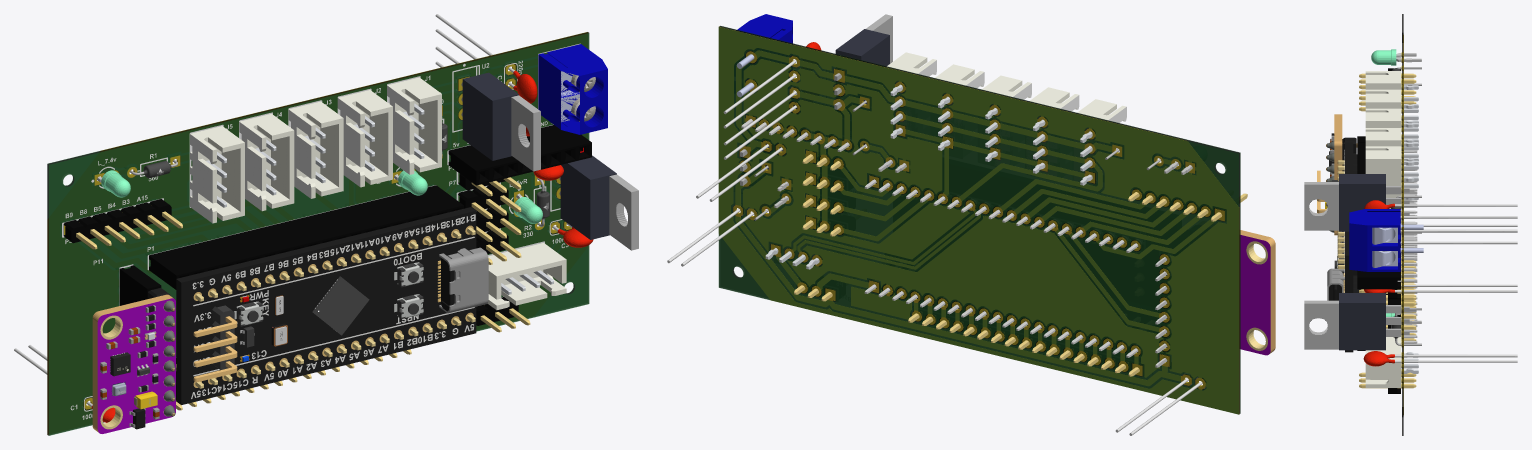
File: PCB.obj
3 renders of one model, left to right at view 1: azimuth 30°, elevation 25°; view 2: azimuth 150°, elevation 25°; view 3: azimuth 270°, elevation 25°, orthographic. The views are drawn at different scales.
Visible parts, largest first — view 1: Solder_Top, Core, ComponentBody.142, ComponentBody.46, ComponentBody.13, ComponentBody.63, ComponentBody.141, ComponentBody.83, ComponentBody.97, ComponentBody.52, ComponentBody.81, ComponentBody.94 (+28 smaller); view 2: Solder_Bottom, GND, Core, 5V_REG, ComponentBody.13, +7.4V, A10_RX, ComponentBody.83, Pad.9, Pad.10, ComponentBody.47, ComponentBody.44 (+28 smaller); view 3: ComponentBody.81, ComponentBody.63, ComponentBody.80, ComponentBody.82, ComponentBody.83, ComponentBody.6, ComponentBody.97, ComponentBody.64, ComponentBody.43, ComponentBody.11, Core, ComponentBody.52 (+29 smaller).
Part boxes in pixels (left/top/right/bottom): Solder_Top: left=49, top=33, right=589, bottom=435; Core: left=47, top=32, right=588, bottom=435; ComponentBody.142: left=176, top=207, right=476, bottom=404; ComponentBody.46: left=149, top=185, right=463, bottom=289; ComponentBody.13: left=97, top=298, right=175, bottom=433; ComponentBody.63: left=538, top=44, right=607, bottom=134; ComponentBody.141: left=191, top=214, right=475, bottom=398; ComponentBody.83: left=462, top=72, right=518, bottom=160; ComponentBody.97: left=487, top=243, right=566, bottom=310; ComponentBody.52: left=448, top=125, right=591, bottom=185; ComponentBody.81: left=560, top=155, right=616, bottom=239; ComponentBody.94: left=239, top=114, right=294, bottom=211; Solder_Bottom: left=718, top=27, right=1238, bottom=414; GND: left=719, top=26, right=1239, bottom=414; Core: left=719, top=26, right=1240, bottom=414; 5V_REG: left=735, top=167, right=1185, bottom=385; ComponentBody.13: left=1240, top=235, right=1270, bottom=355; +7.4V: left=736, top=50, right=1114, bottom=153; A10_RX: left=902, top=115, right=1102, bottom=202; ComponentBody.83: left=835, top=29, right=889, bottom=104; Pad.9: left=869, top=175, right=1140, bottom=250; Pad.10: left=869, top=280, right=1140, bottom=355; ComponentBody.47: left=864, top=284, right=1138, bottom=357; ComponentBody.44: left=864, top=179, right=1138, bottom=252; ComponentBody.81: left=1339, top=293, right=1385, bottom=350; ComponentBody.63: left=1349, top=209, right=1400, bottom=271; ComponentBody.80: left=1304, top=300, right=1409, bottom=349; ComponentBody.82: left=1304, top=182, right=1409, bottom=230; ComponentBody.83: left=1339, top=174, right=1385, bottom=231; ComponentBody.6: left=1365, top=146, right=1401, bottom=208; ComponentBody.97: left=1365, top=337, right=1401, bottom=387; ComponentBody.64: left=1372, top=224, right=1423, bottom=267; ComponentBody.43: left=1400, top=229, right=1517, bottom=244; ComponentBody.11: left=1395, top=354, right=1517, bottom=362; Core: left=1402, top=14, right=1403, bottom=435; ComponentBody.52: left=1357, top=233, right=1400, bottom=289.
Size of the model in its own units: 9.6 by 4.6 by 4.16.
